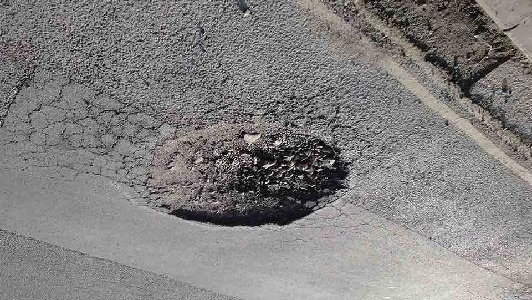pothole: (118, 124, 357, 229), (354, 0, 520, 96)
